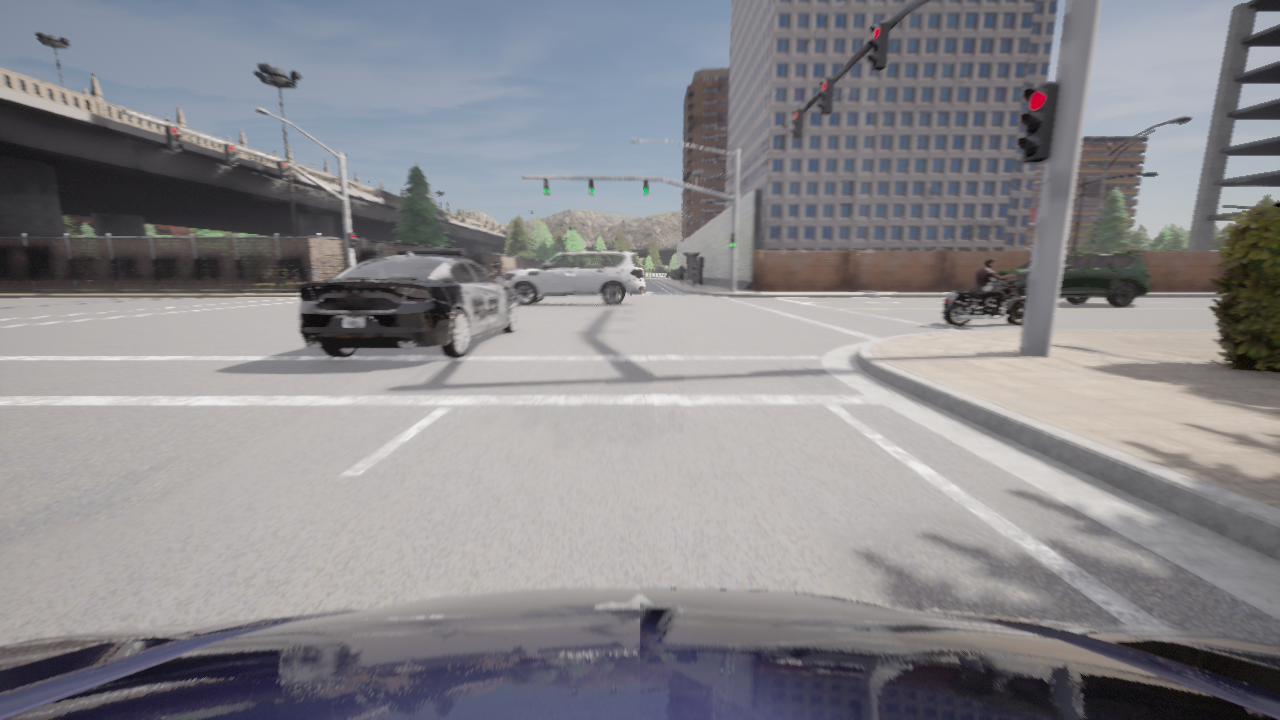cyclist: (0, 588, 1279, 719), (298, 248, 517, 358), (986, 252, 1149, 306), (501, 251, 645, 306), (942, 274, 1025, 326)
pedestrian: (676, 262, 685, 287), (691, 261, 696, 287)
